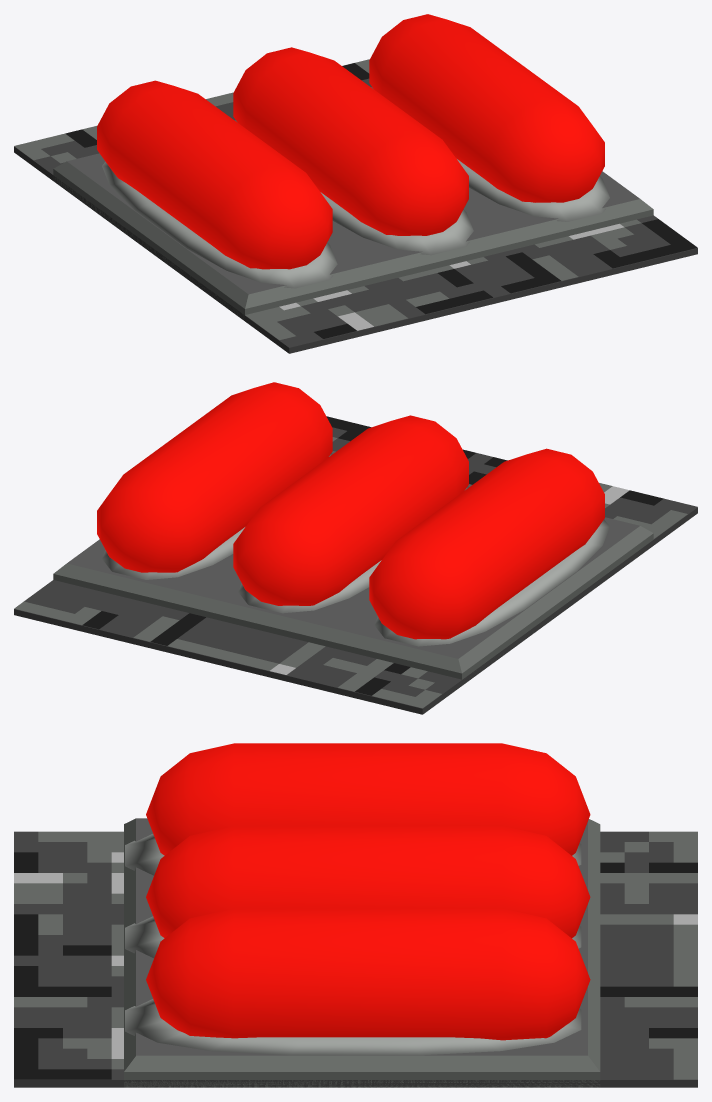
File: newshs-191.glb
3 views of the same model, one above another, from view 1: azimuth 30°, elevation 25°; view 2: azimuth 150°, elevation 25°; view 3: azimuth 270°, elevation 25° (orthographic). The views are drawn at different scales.
Visible parts, largest first — view 1: newshs-191; view 2: newshs-191; view 3: newshs-191.
Boxes of the visible parts, <box> form: newshs-191: <box>14,14,697,353</box>; newshs-191: <box>14,382,697,714</box>; newshs-191: <box>14,743,697,1087</box>.
Bounding box in the file's own units: 2 × 0.4867 × 2.33.
